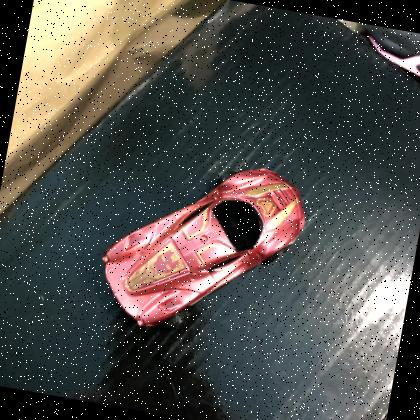Car: (90, 141, 316, 356)
